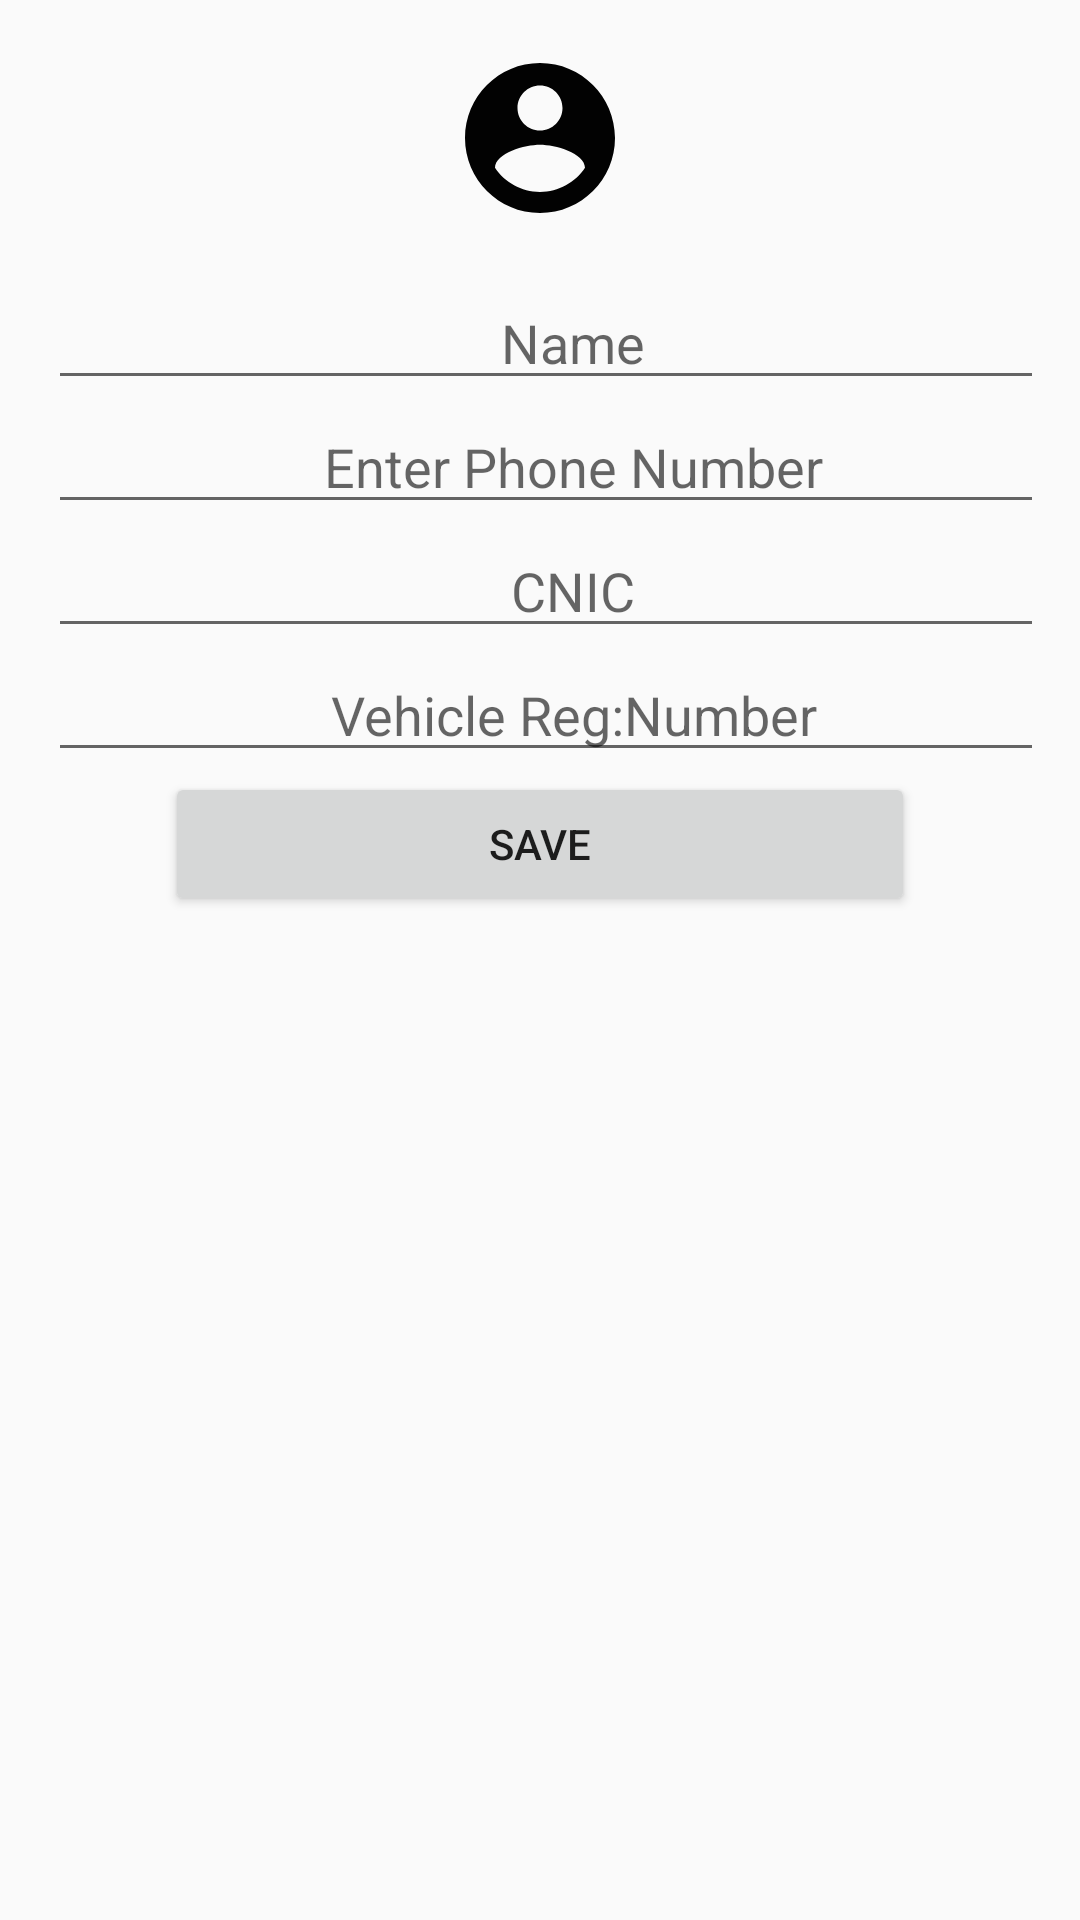

Screen size 1080px x 1920px. Icon name, then its center in pixels as [x,y]:
Set Profile Piture: [540,138]
